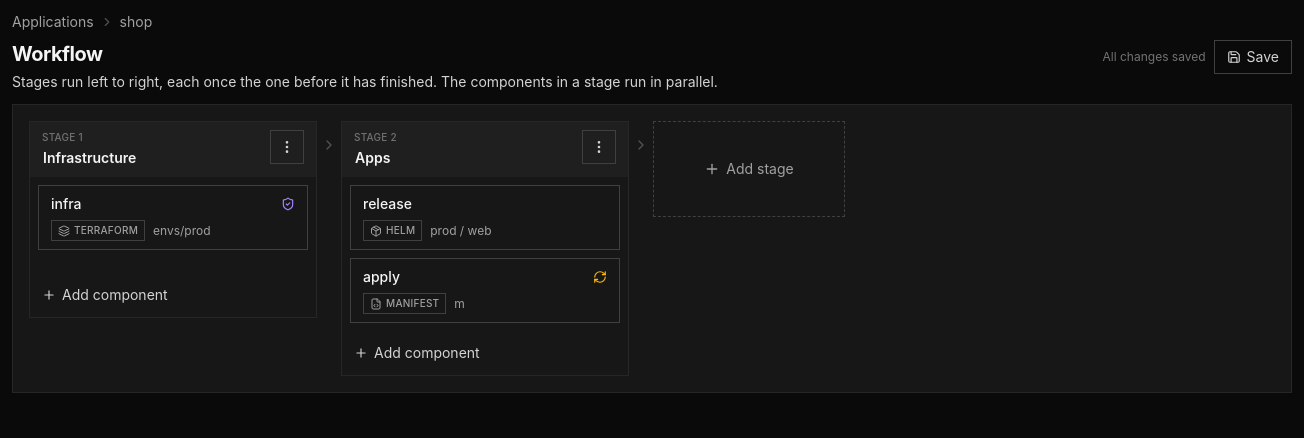
Test: WorkflowBuilder › shows the server validation error inline on a 400
The image size is (1304, 438).
Check: the text "release" is shown, box [363,194,412,214]
Click the button "Save": [1253, 57] box [1214,40,1292,74]
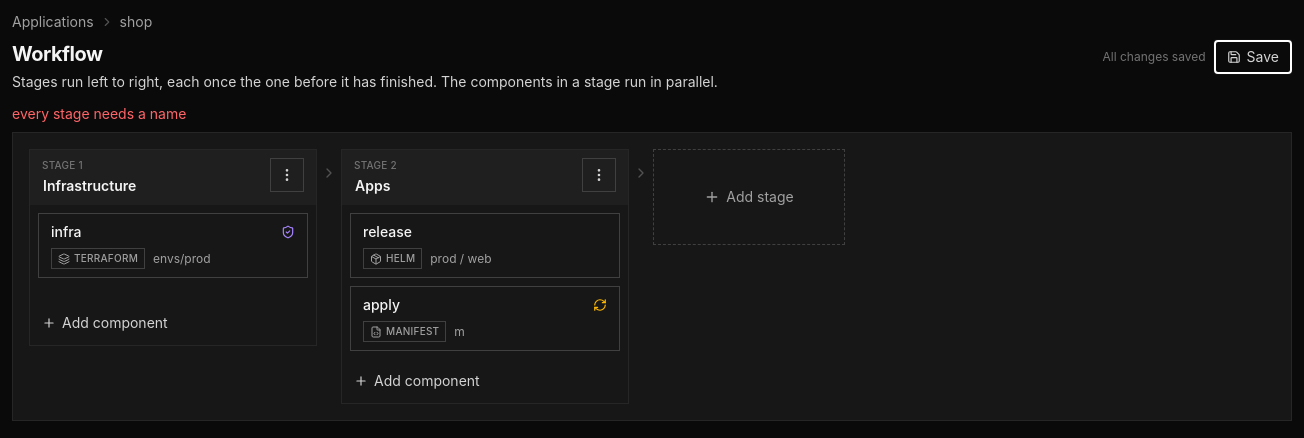
Check: the text "every stage needs a name" is shown, box [12,105,186,122]
